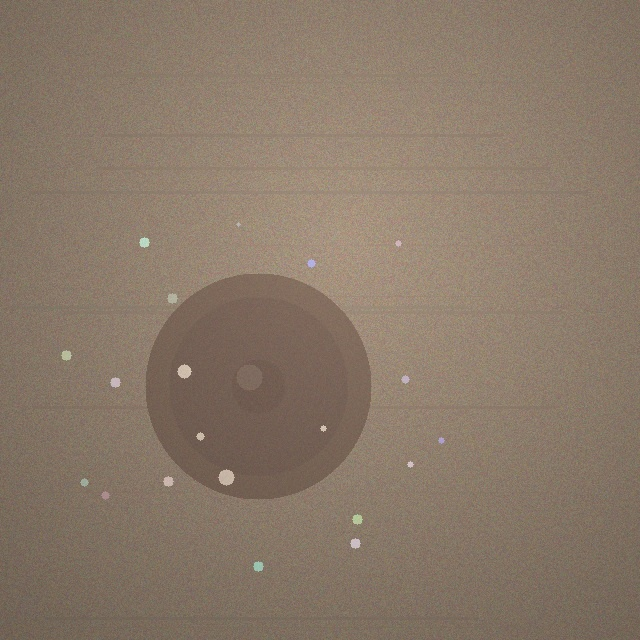overburn: (145, 273, 371, 499)
